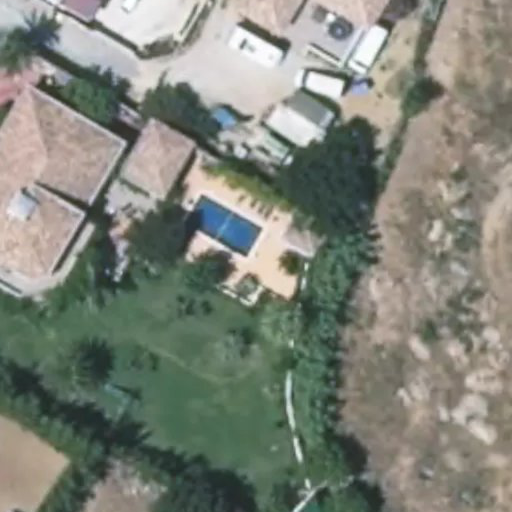pool: (217, 237, 293, 246)
